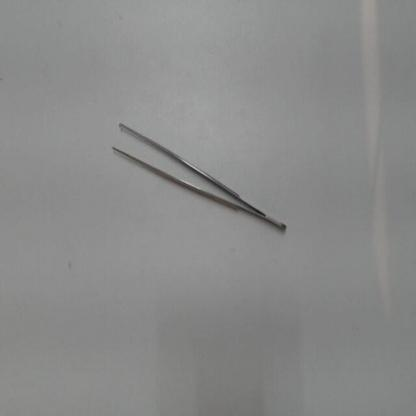Gillies Toothed Dissector: (108, 105, 292, 238)
